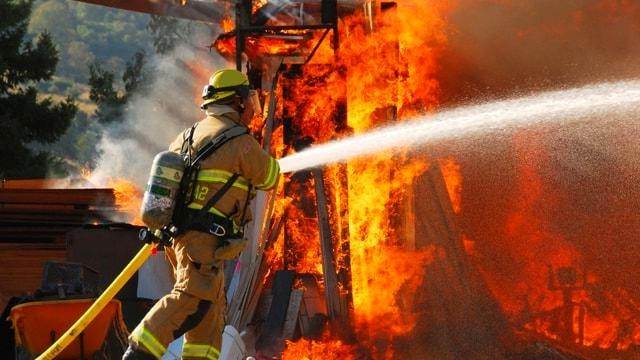fire: (353, 168, 391, 312), (350, 9, 398, 111), (304, 29, 350, 128), (400, 2, 440, 109), (290, 201, 318, 269), (332, 172, 350, 268), (396, 254, 426, 302), (287, 340, 349, 360), (582, 320, 618, 344), (121, 187, 142, 223)
smoke: (439, 0, 639, 80), (159, 44, 195, 124), (123, 90, 155, 158), (97, 131, 121, 181)
